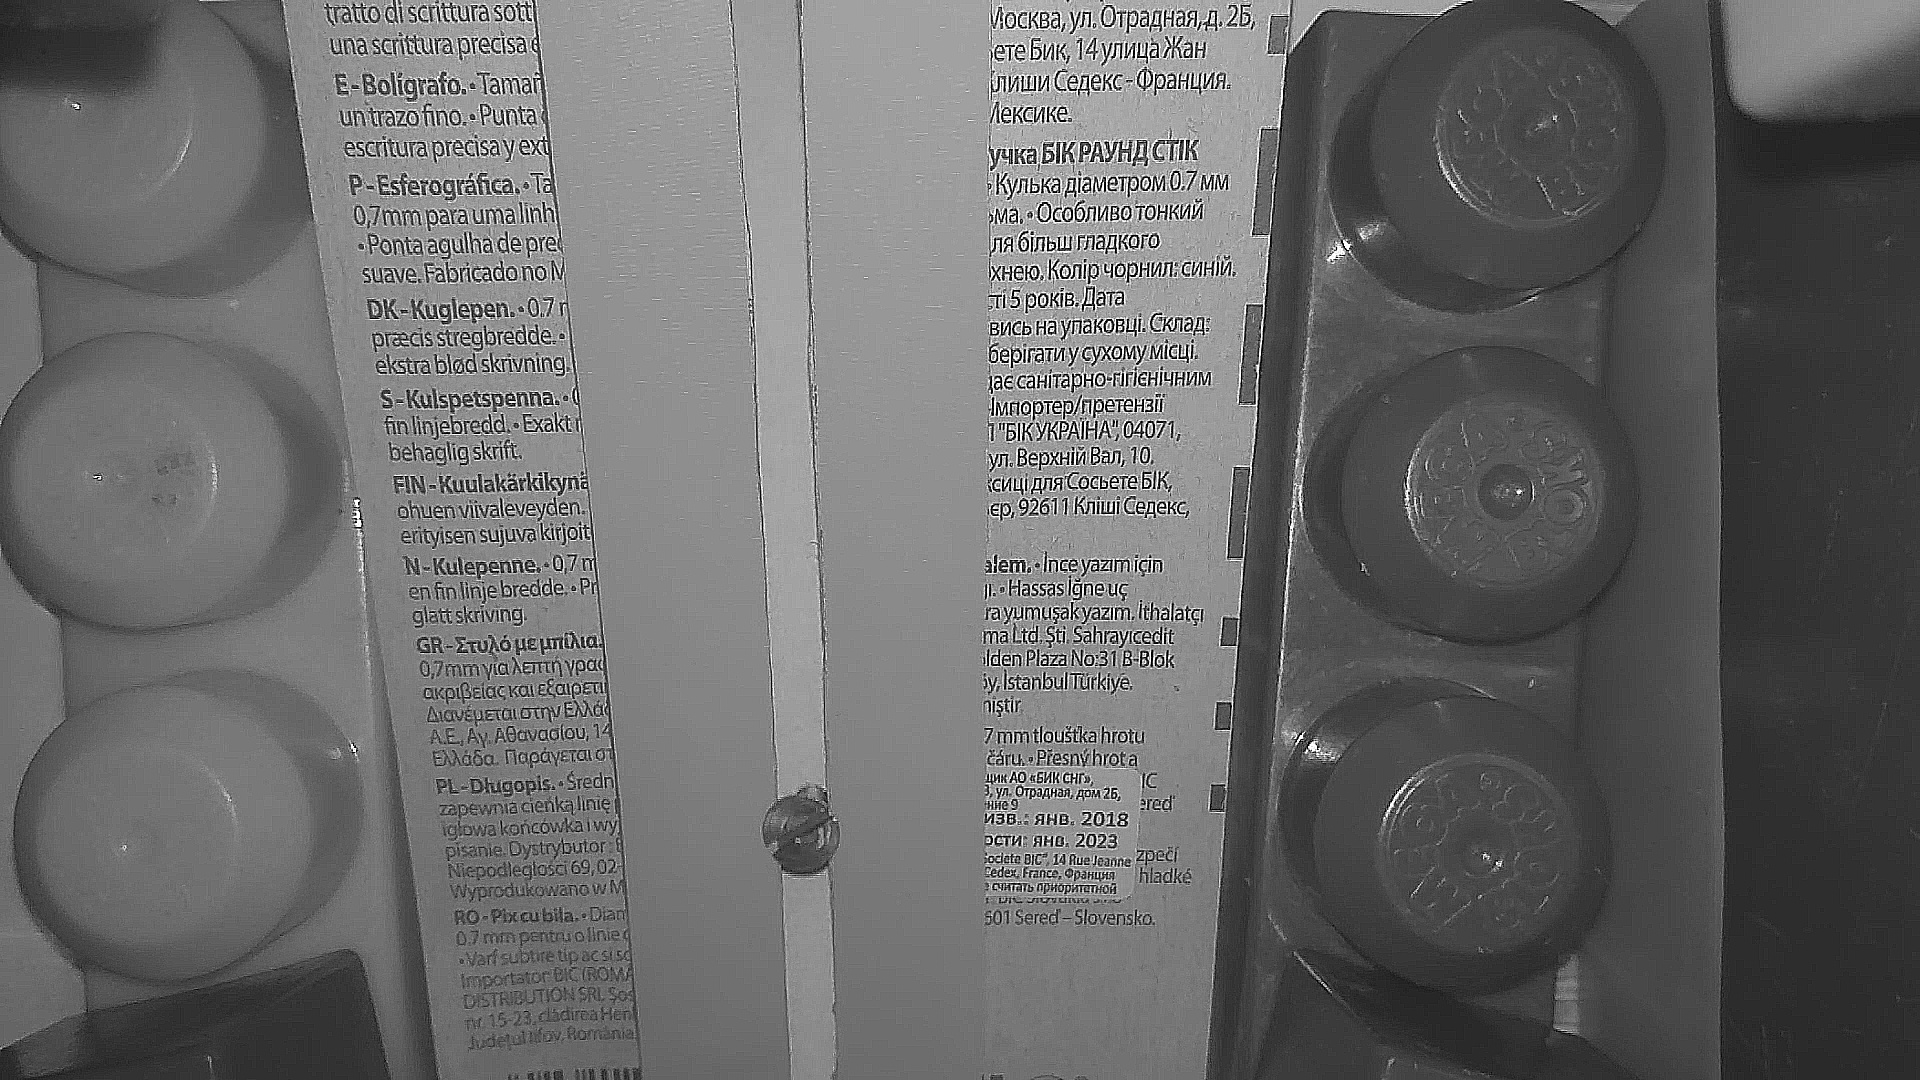i: (765, 796, 839, 874)
